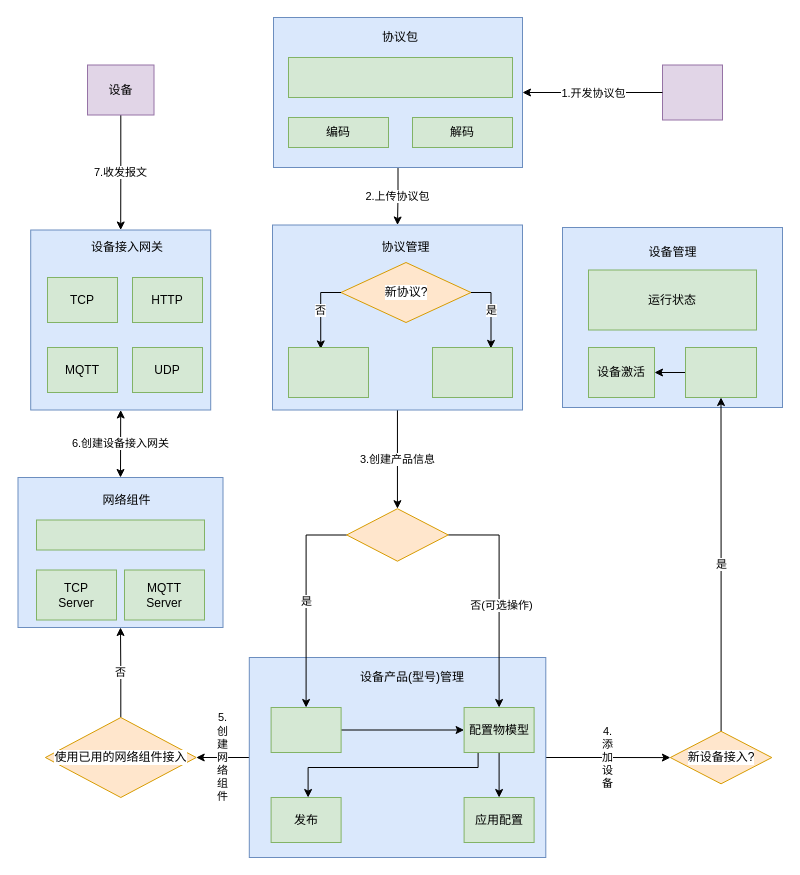
The diagram is 800 pixels wide and 875 high, and some of its shapes have lost their labels. Each missing label, with the centre of its shape:
创建产品: [305,729]
创建网络组件: [120,534]
在协议管理中新增并发布: [472,372]
开发人员: [692,92]
新产品?: [397,534]
添加设备: [720,372]
编辑已有的协议并重新发布: [328,372]
认证: [400,77]
